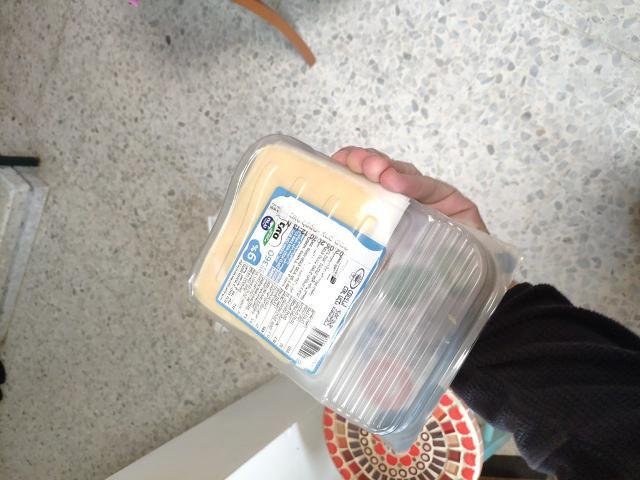cheese: (164, 168, 492, 439)
